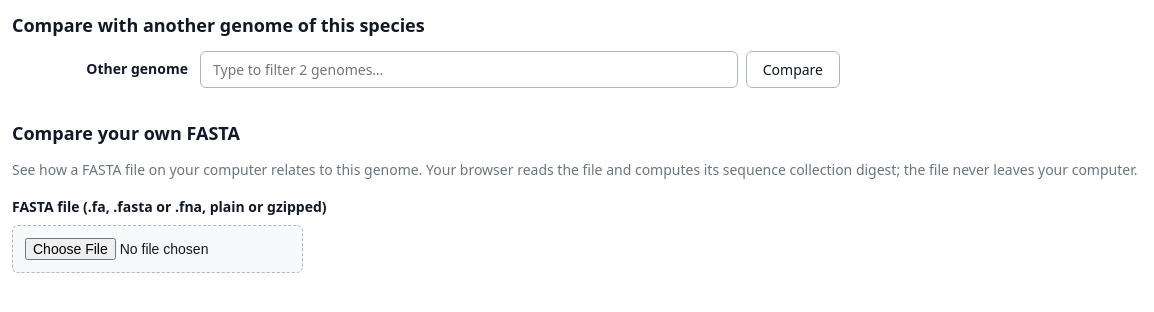
Test case: ComparePanel › says so when nothing is picked
This screenshot has width=1154, height=312.
Click the button "Compare".
click(793, 70)  # box [746,51,840,88]
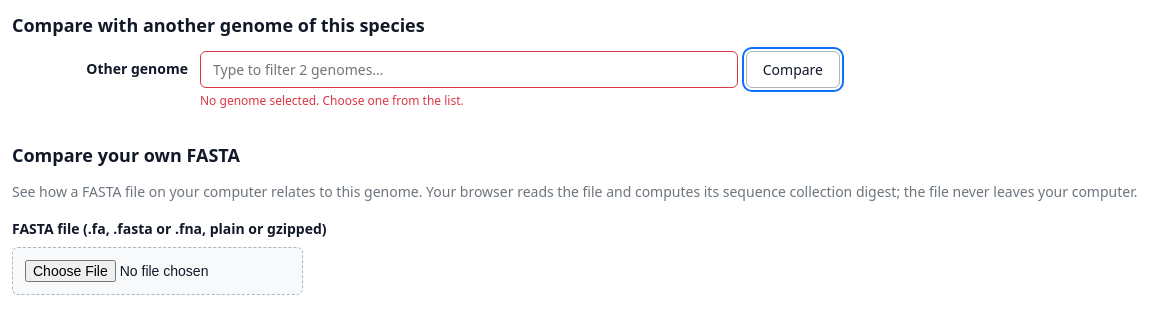
Result: the message reads "No genome selected. Choose one from the list." at [200,92,464,109]
Type "mm10" into the field labelled "Other genome".
click(469, 70); type("mm10")  # box [200,51,738,88]
Then press Enter
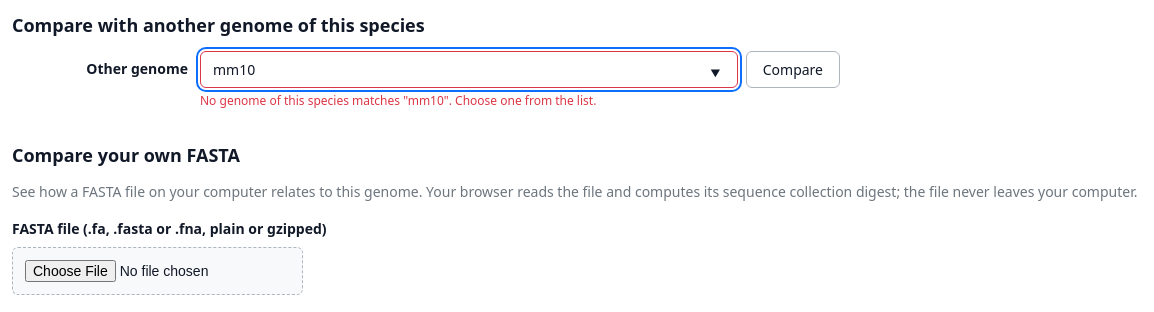
Result: the message shows "No genome of this species matches \"mm10\"." at [200,92,596,109]
